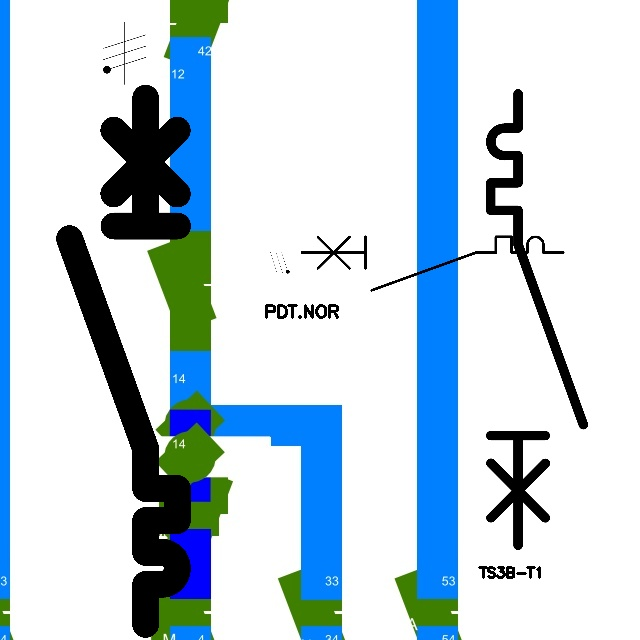interruptor_termomagnetico: (56, 84, 191, 637), (479, 82, 595, 557), (295, 230, 570, 297)
